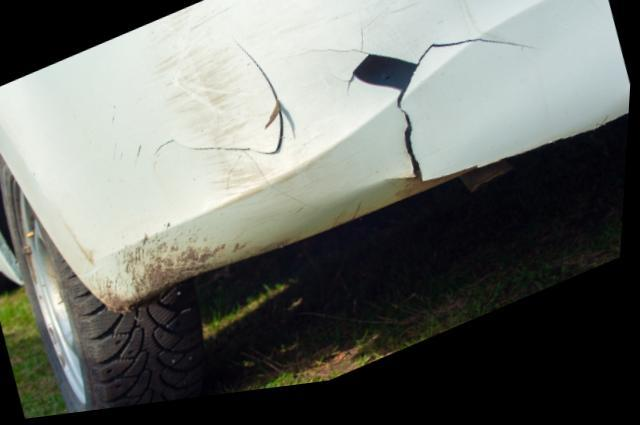crack: (282, 16, 542, 193), (155, 42, 321, 219)
